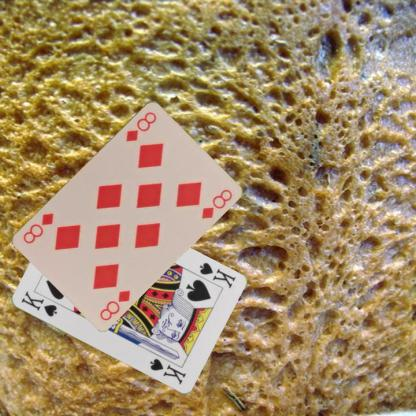8d: (97, 287, 132, 322), (123, 108, 158, 142)
Ks: (18, 288, 58, 318), (196, 260, 236, 290)
